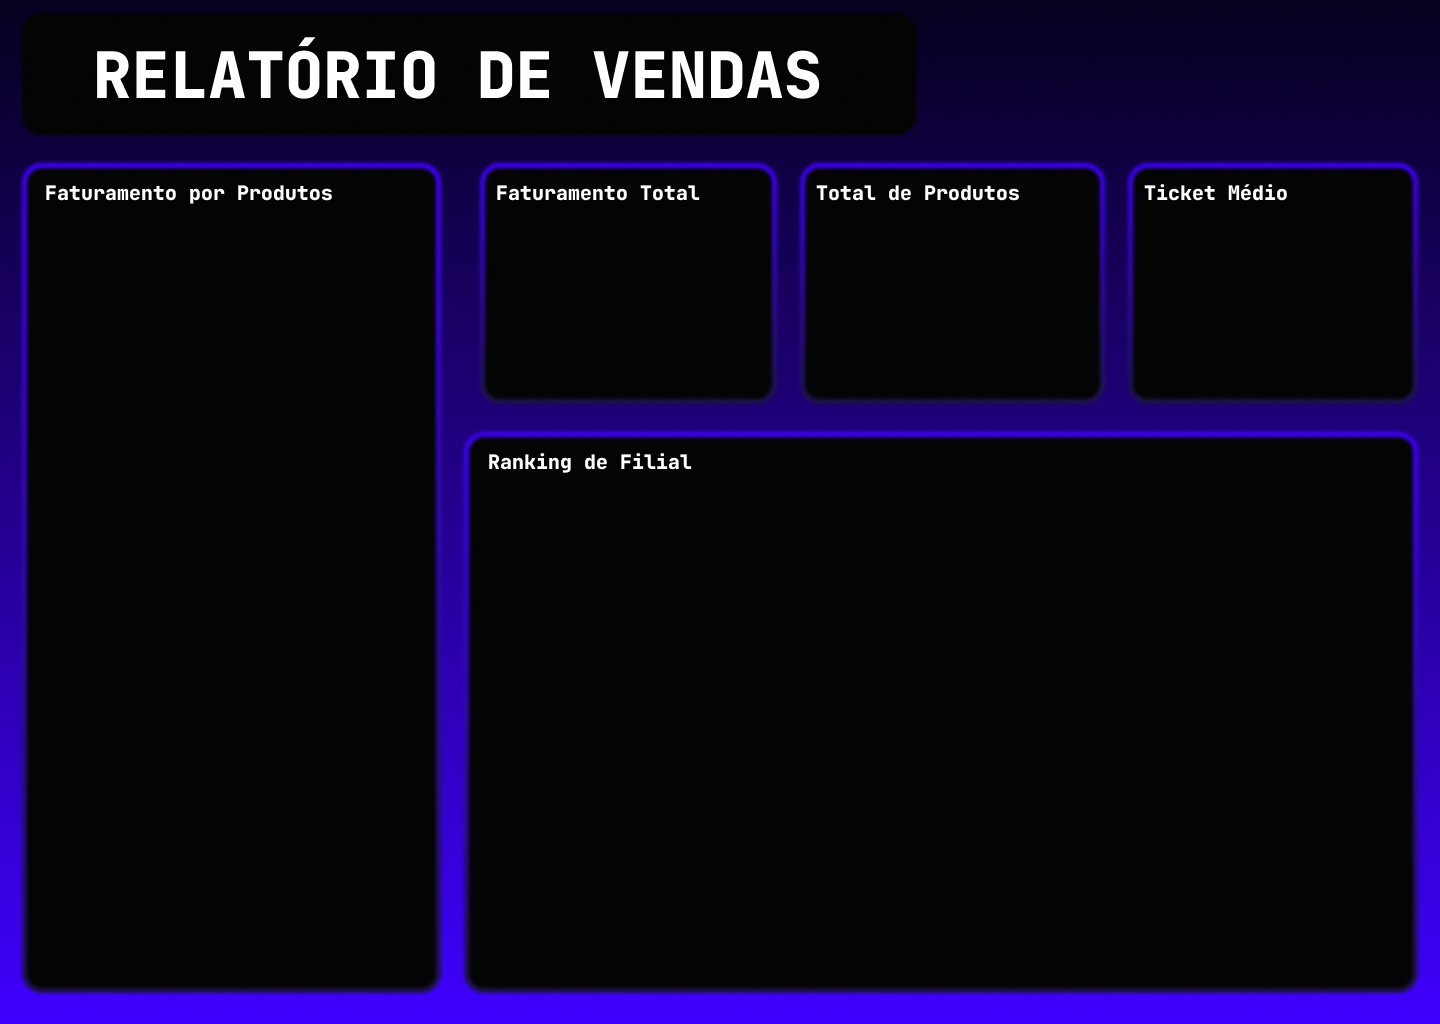

Layout of this report page (visuals, bound fields, positions):
{"tool":"powerbi","page":{"name":"Vendas","canvas":[1280,720],"ordinal":0},"visuals":[{"type":"card","fields":{"Values":["Vendas.Faturamento"]},"box":[439,152,239,112],"z":0},{"type":"card","fields":{"Values":["Vendas.Ticket Médio"]},"box":[1018,152,227,112],"z":1},{"type":"card","fields":{"Values":["Vendas.Qtd de Produtos"]},"box":[731,152,230,112],"z":2},{"type":"clusteredBarChart","fields":{"Category":["Vendas.Produto"],"Y":["Vendas.Faturamento"]},"box":[32,152,346,534],"z":3},{"type":"tableEx","fields":{"Values":["Vendas.ID Loja","Vendas.Faturamento"]},"box":[429,345,806,341],"z":4}]}

Visuals, with their boxes on the page's 1280x720 design canvas (x1, y1, x2, y2). These are canvas units, not pixel positions in the 1440x1024 screenshot, which may show the page scaled, cropped or inside an application window:
card - Vendas.Faturamento: 439 152 678 264
card - Vendas.Ticket Médio: 1018 152 1245 264
card - Vendas.Qtd de Produtos: 731 152 961 264
clusteredBarChart - Vendas.Produto x Vendas.Faturamento: 32 152 378 686
tableEx - Vendas.ID Loja x Vendas.Faturamento: 429 345 1235 686
